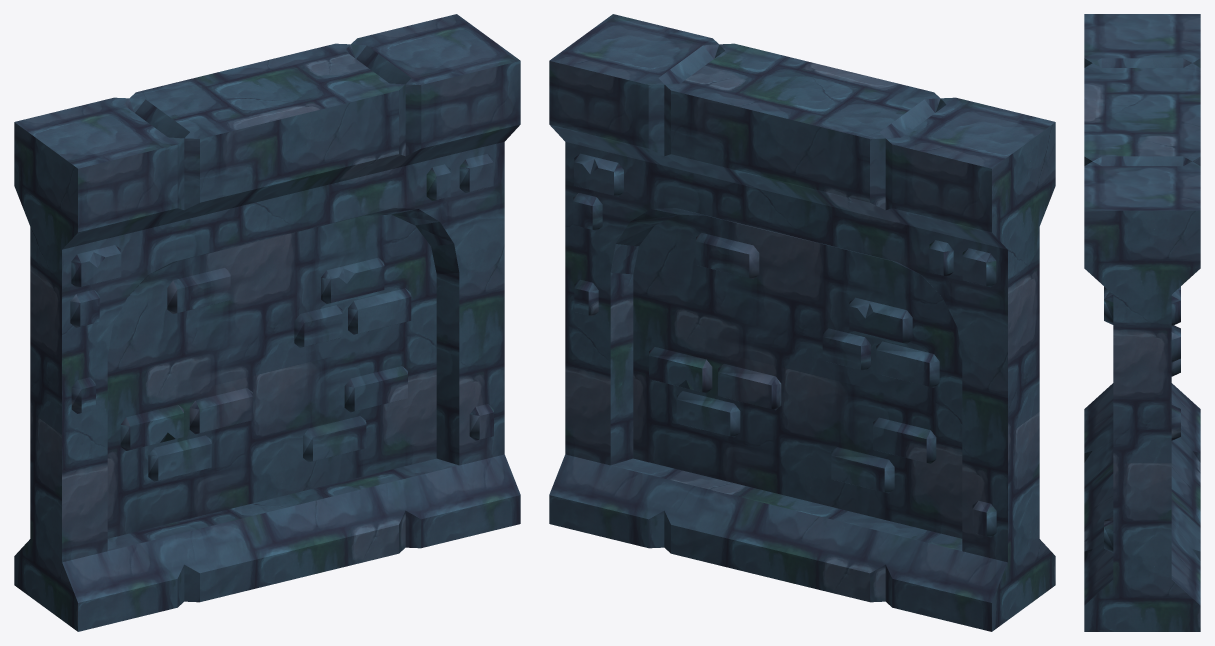
The model's file is wall_arched.gltf.
The picture shows the model from 3 angles, left to right: view 1: azimuth 30°, elevation 25°; view 2: azimuth 150°, elevation 25°; view 3: azimuth 270°, elevation 25°; orthographic projection. The views are drawn at different scales.
Visible parts, largest first — view 1: wall_arched; view 2: wall_arched; view 3: wall_arched.
Boxes of the visible parts, x1,y1,x2,y2 form: wall_arched: [14, 14, 520, 631]; wall_arched: [549, 14, 1055, 631]; wall_arched: [1084, 14, 1200, 631].
Size of the model in its own units: 4 by 4 by 1.
1 material, 1 textured.
